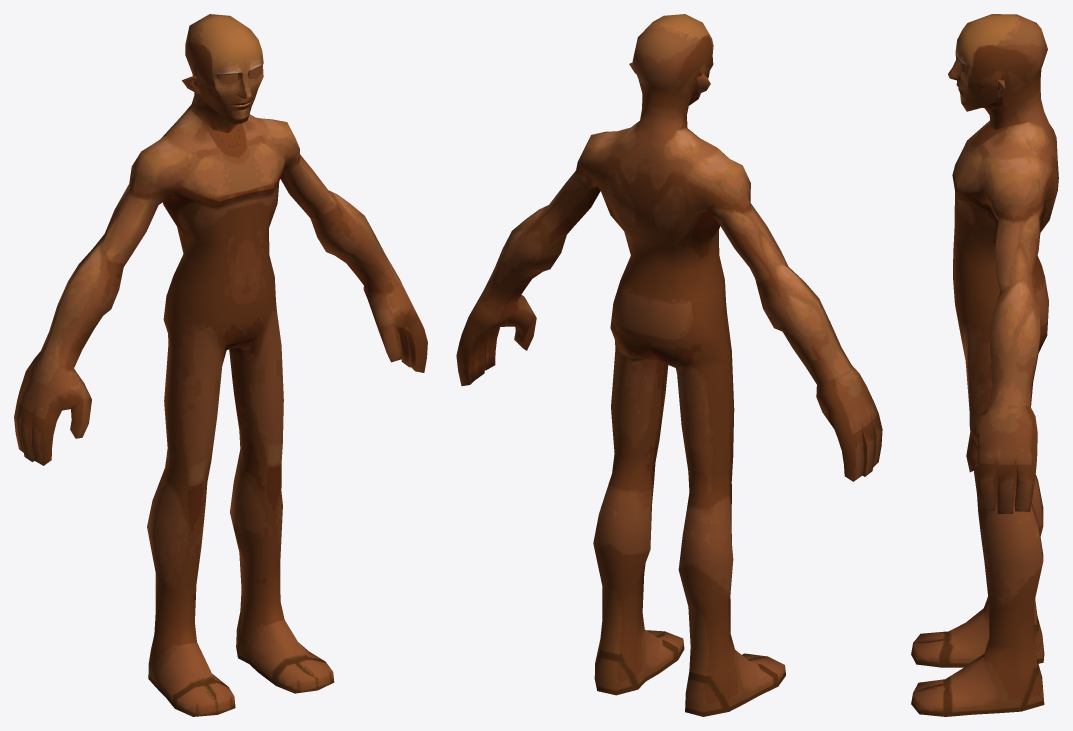
File: est_m_684273c0.glb
3 views of the same model, side by side, from view 1: azimuth 30°, elevation 25°; view 2: azimuth 150°, elevation 25°; view 3: azimuth 270°, elevation 25° (orthographic). The views are drawn at different scales.
Size of the model in its own units: 1.7 by 2.69 by 0.5445.
Materials: 1 (1 with a texture image).
